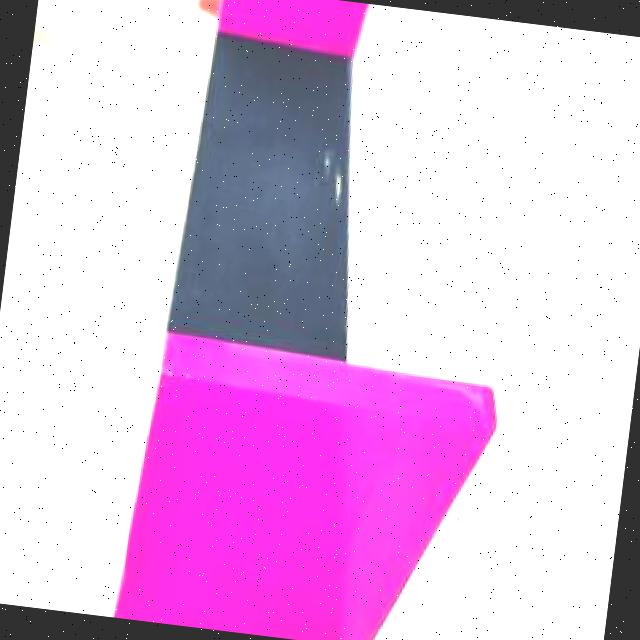xparking: (133, 340, 466, 640), (220, 0, 363, 54)
